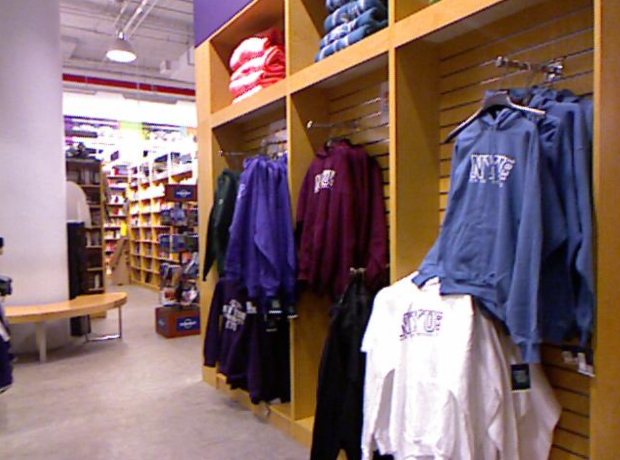cabinet: (196, 41, 620, 456)
chair: (7, 294, 128, 361)
